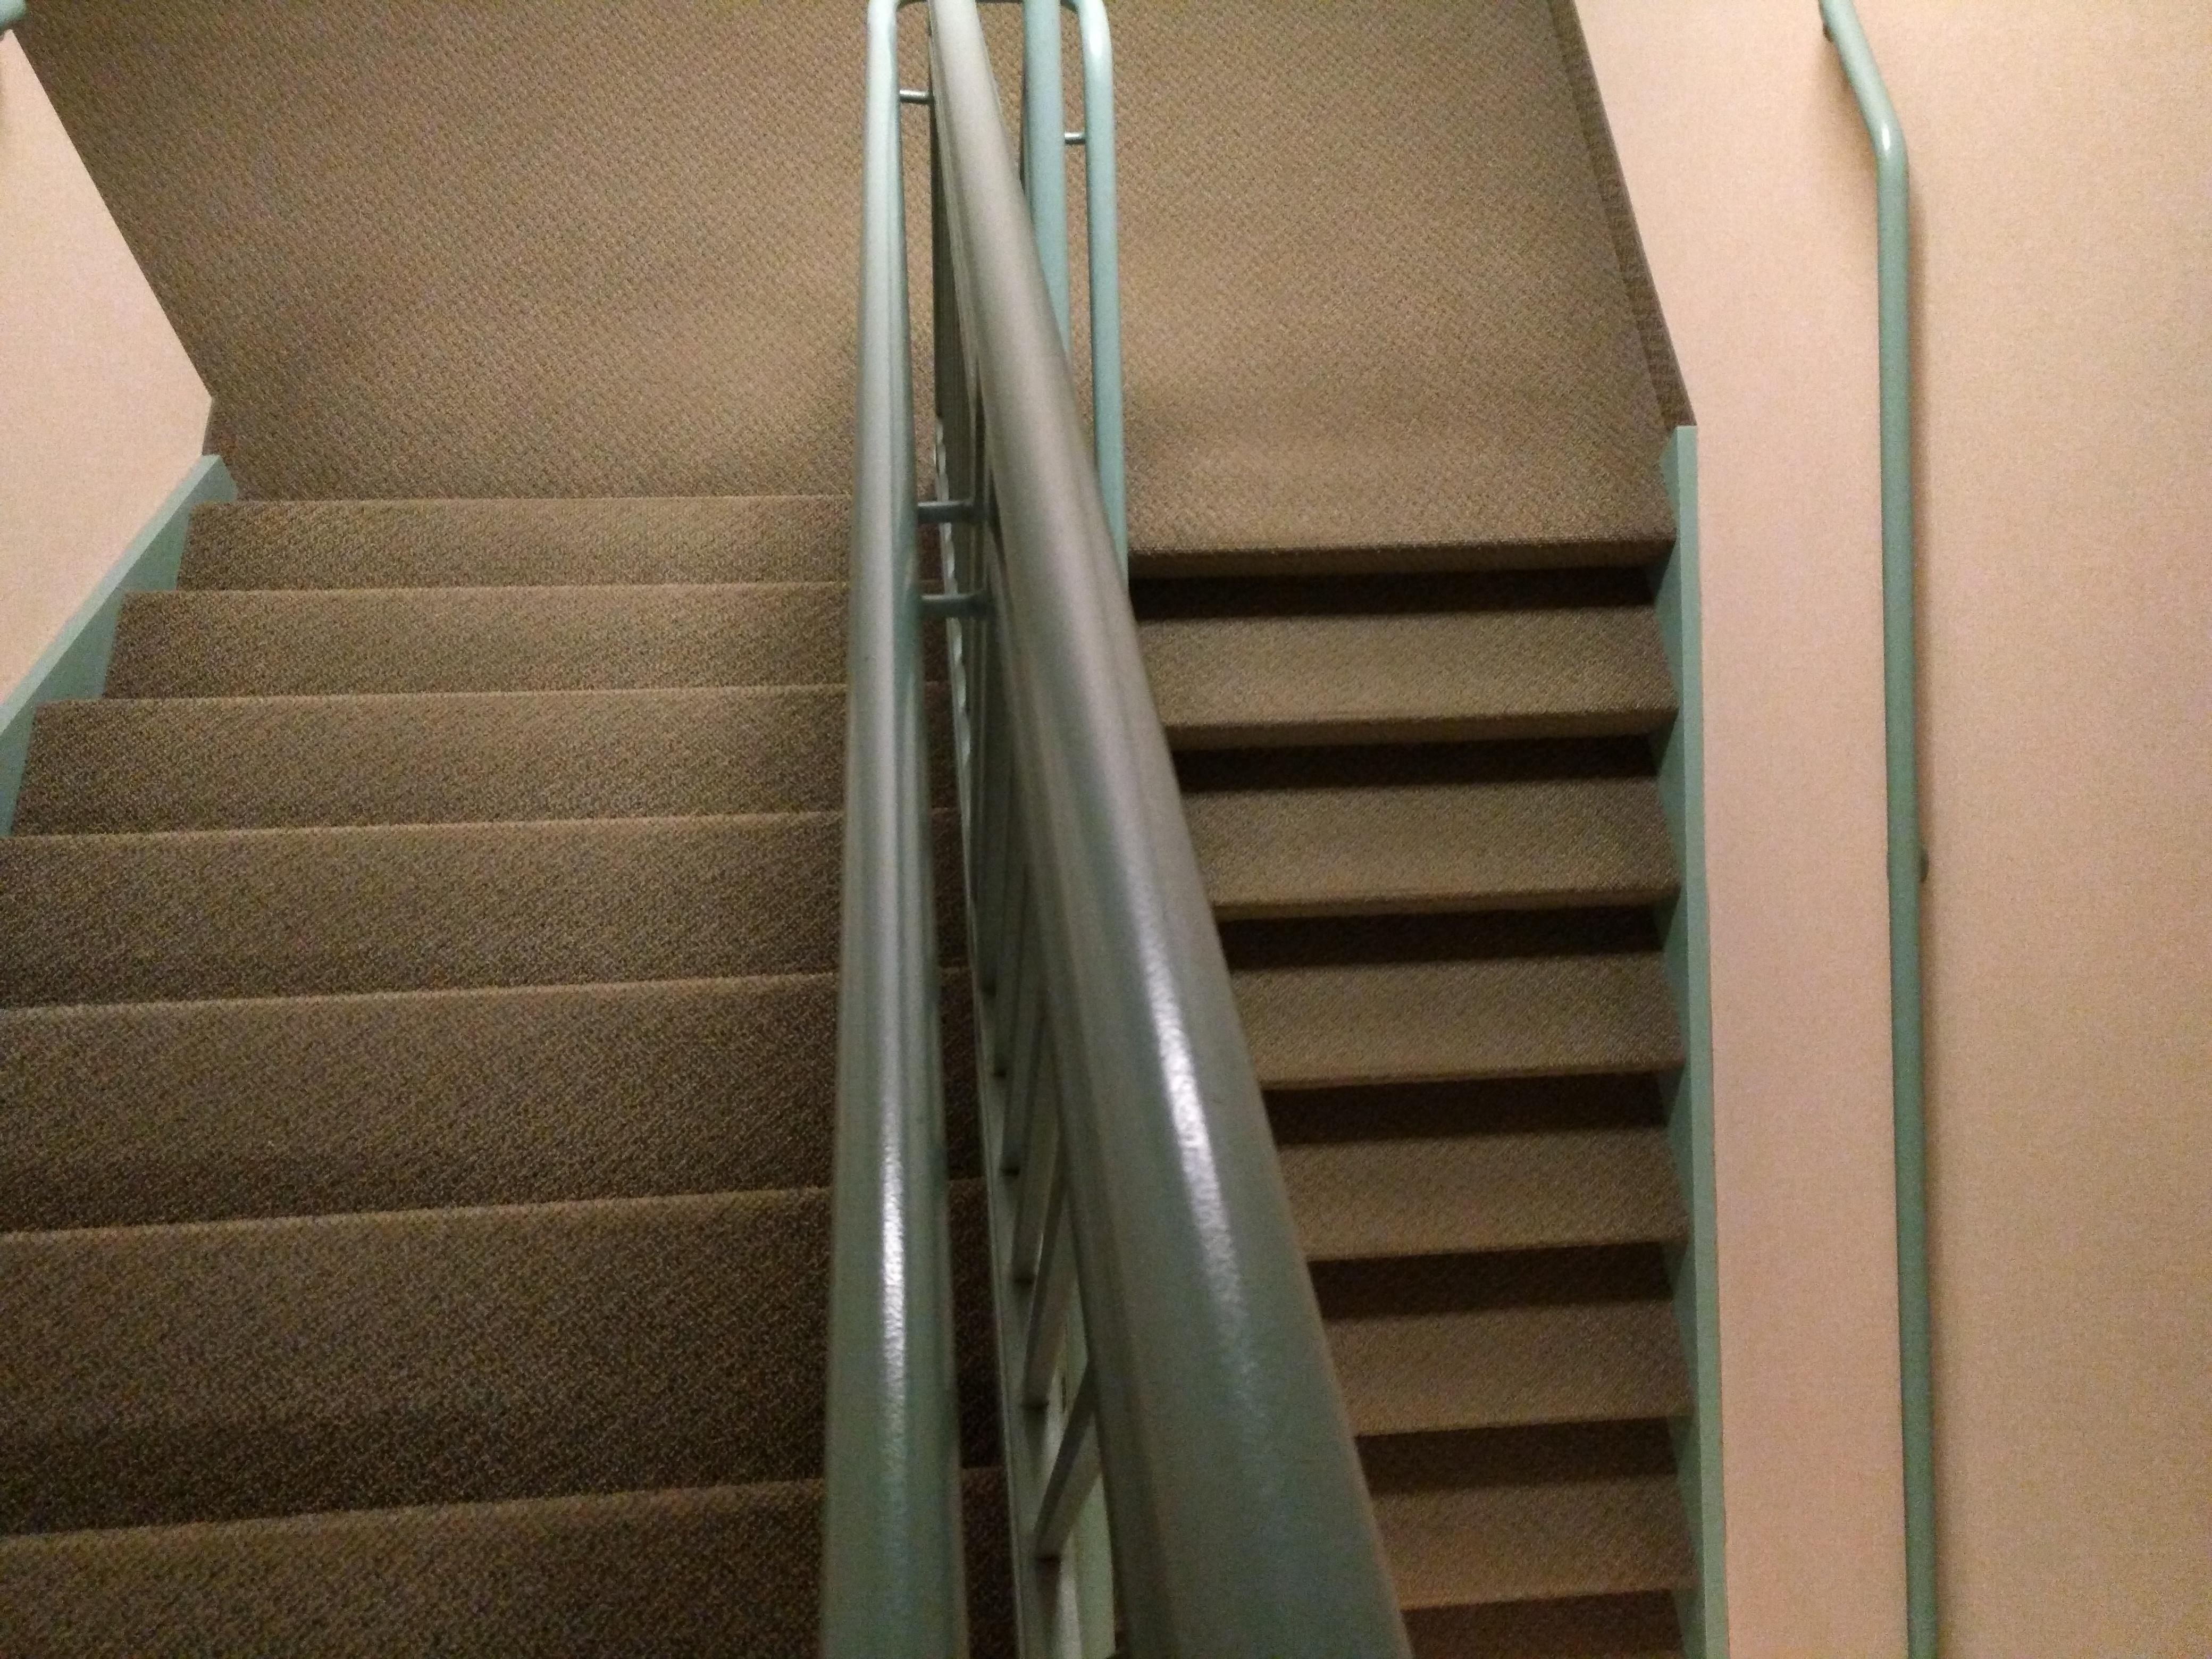stairs_down: (23, 420, 850, 1563)
stairs_up: (1120, 481, 1782, 1615)
